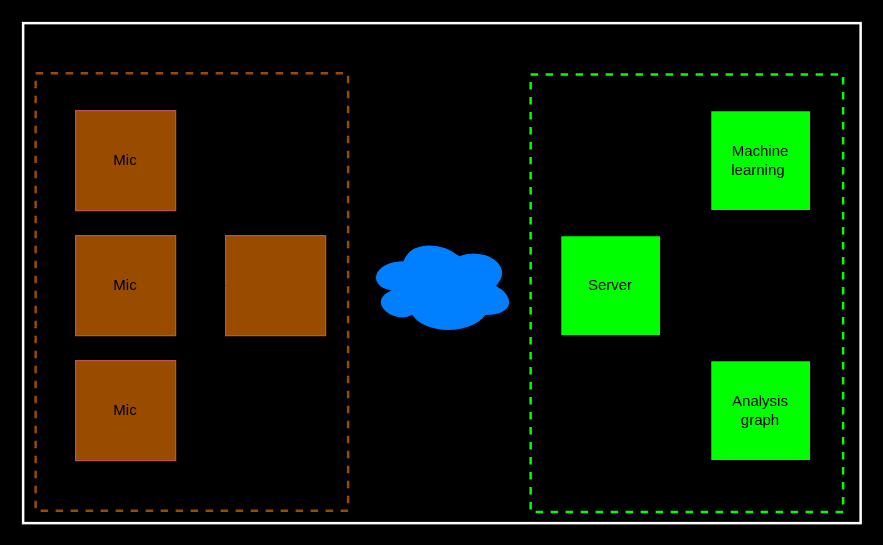
Image size: 883x545. Some labels were removed from this diagram. Here are the shapes that lost their labels. From the top down, the box of each, then its label:
(224, 234, 326, 336): Esp32
(364, 234, 516, 336): Network
